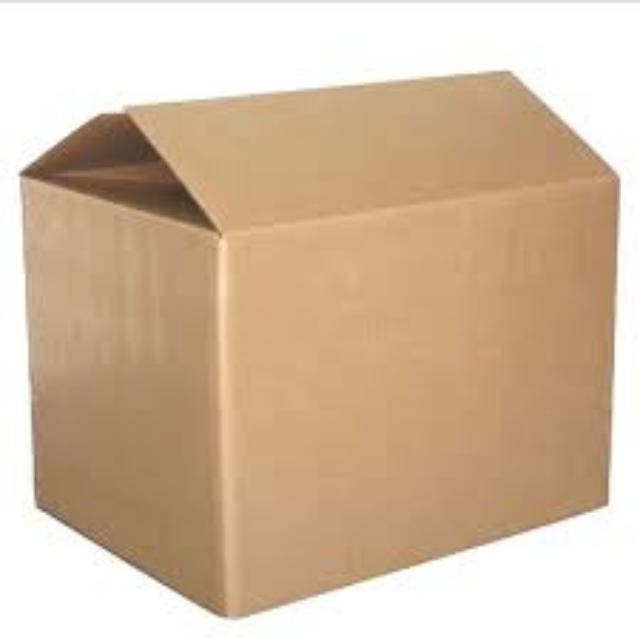cardboard paper: (20, 68, 612, 609)
